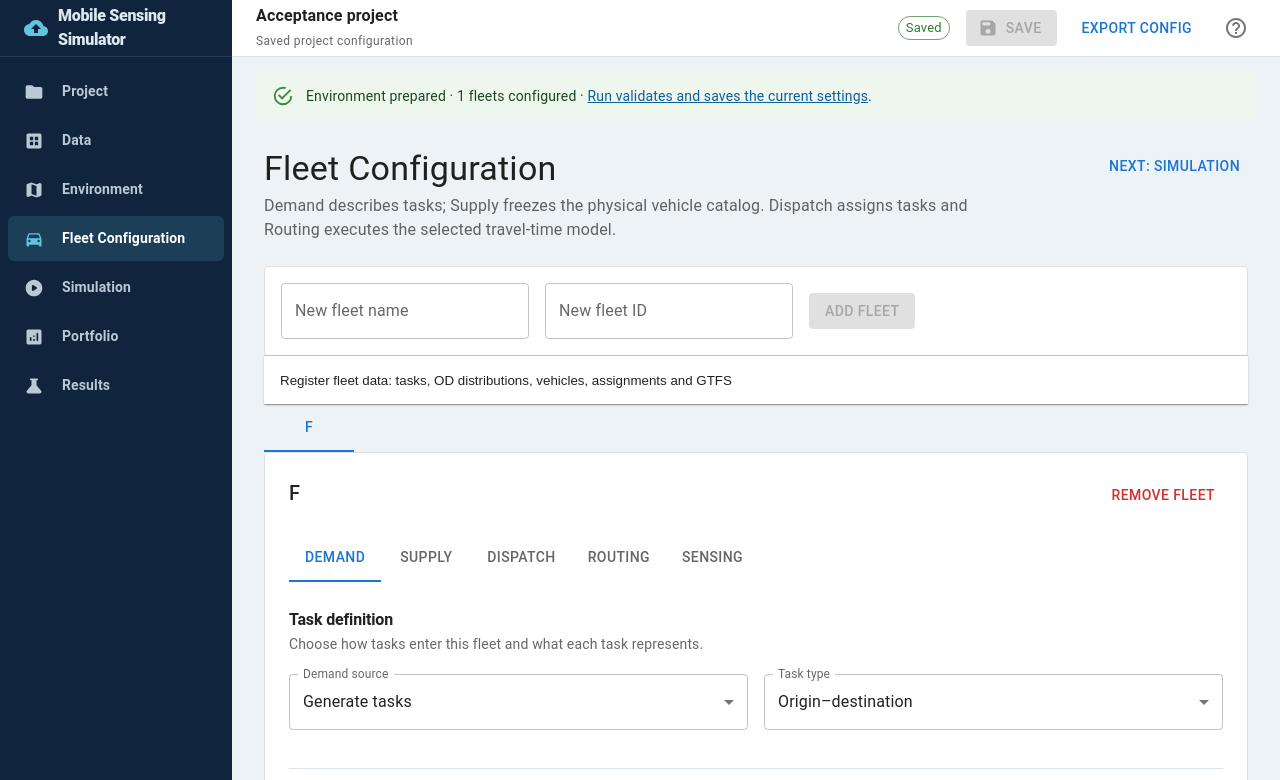
Scenario: MR05 public workbench › clears a stale OD reference when Demand source changes away from generated OD demand
The width and height of the screenshot is (1280, 780).
Click the dropdown named "Demand source" at [357, 702], box [303,692,412,711]
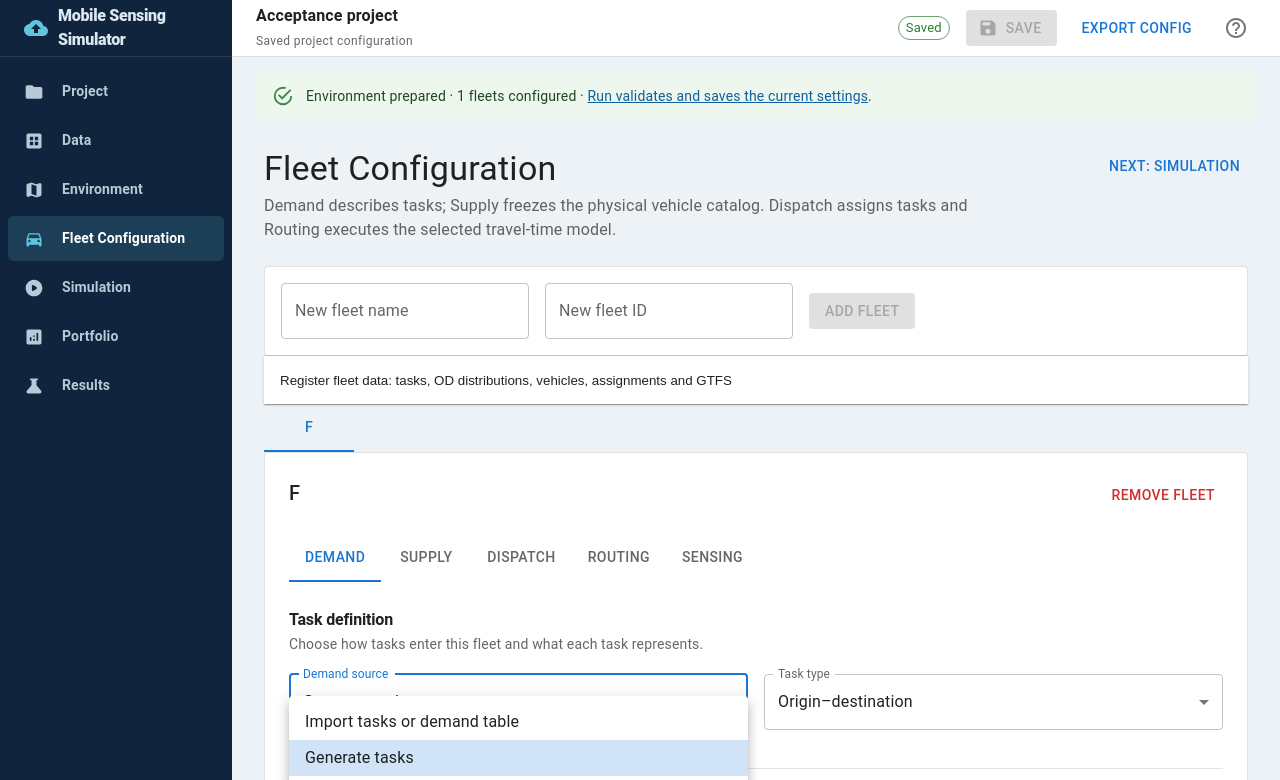
Click the option "Import tasks or demand table" at [412, 722], box [305,712,519,731]
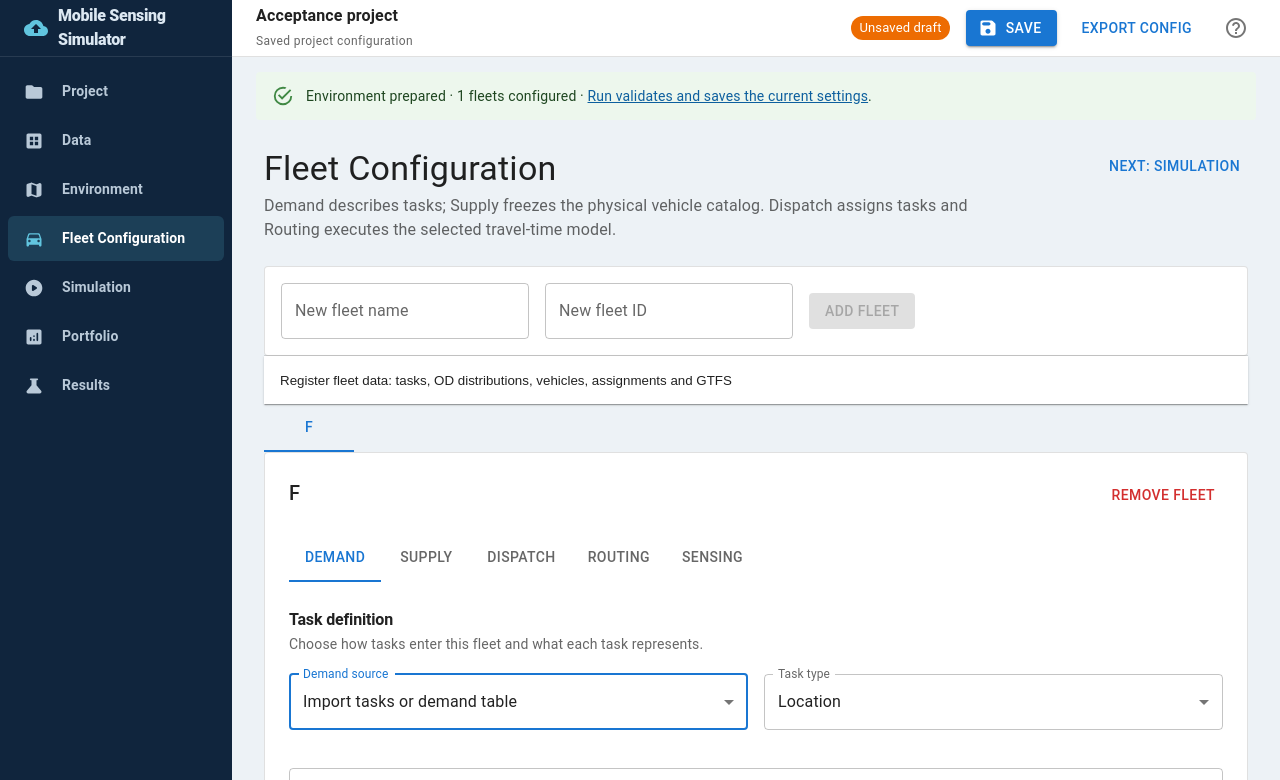
Click the dropdown named "Demand source" at [410, 702], box [303,692,517,711]
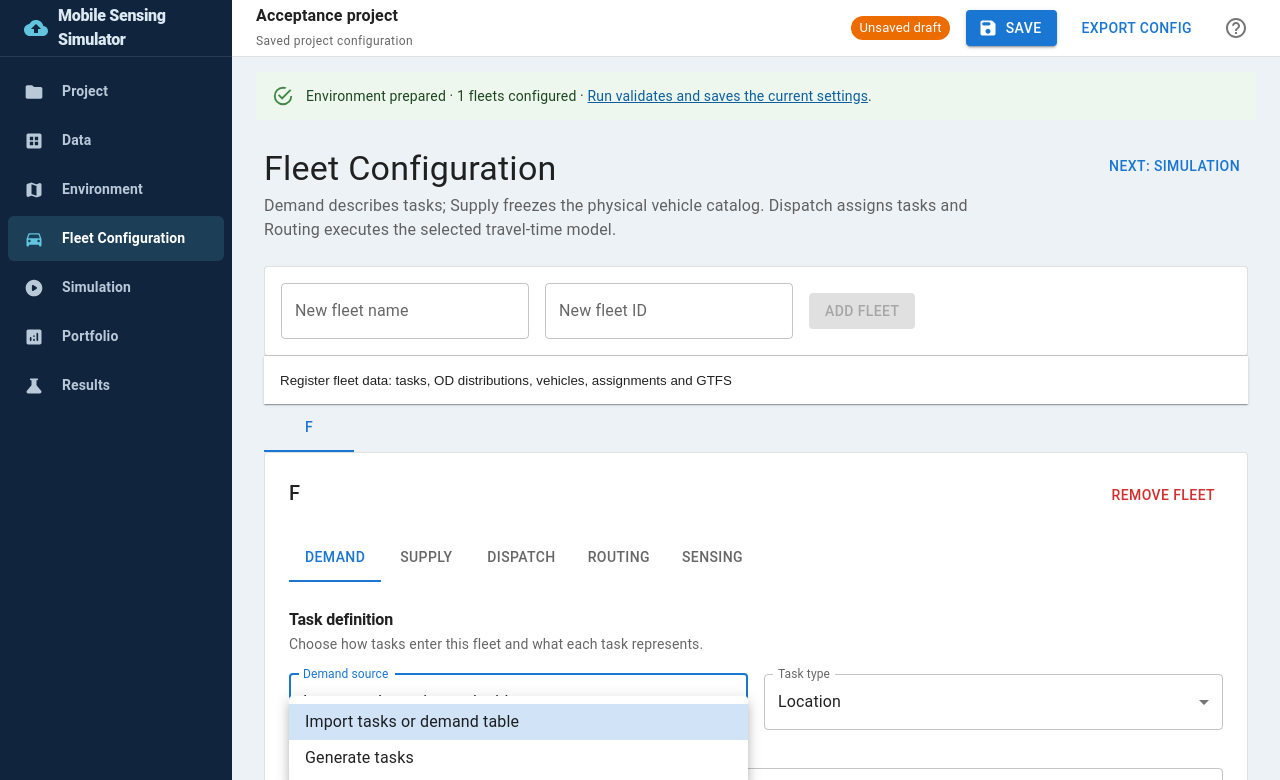
Click the option "Generate tasks" at [359, 758], box [305,748,414,767]
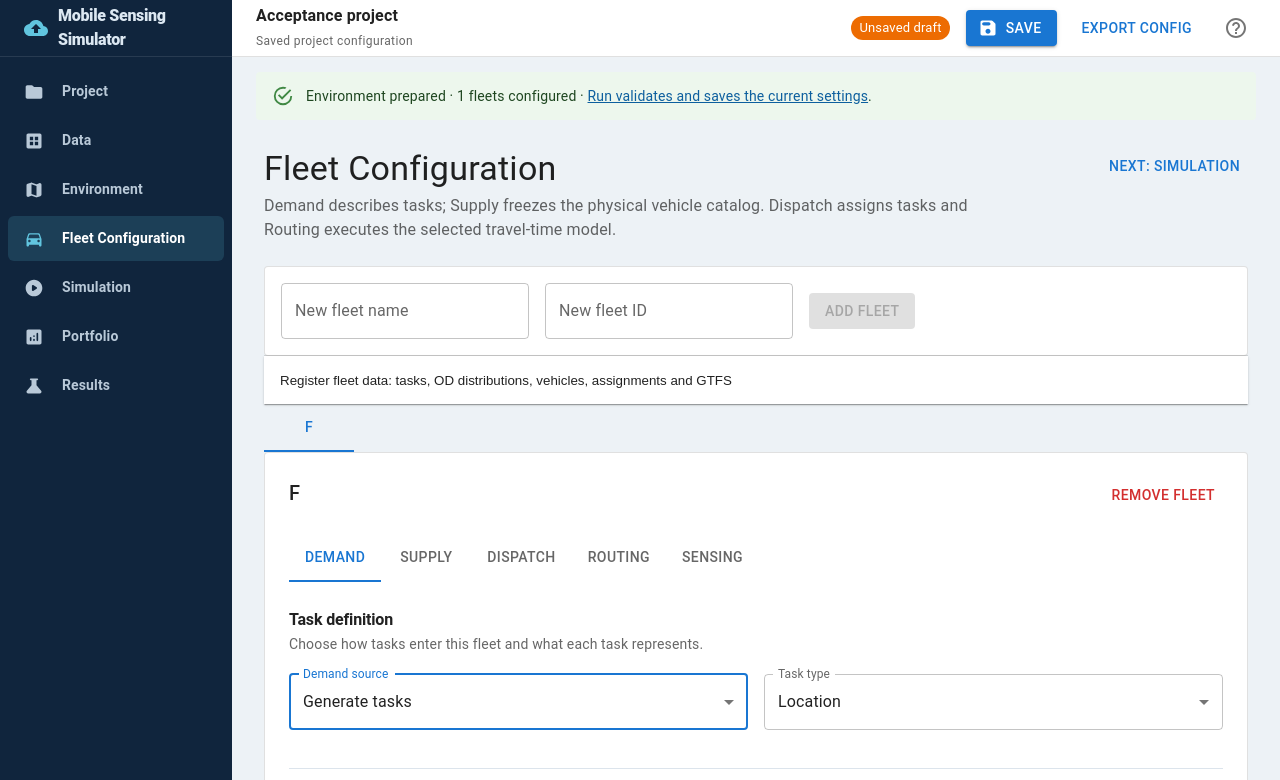
Click the dropdown named "Task type" at [810, 702], box [778,692,841,711]
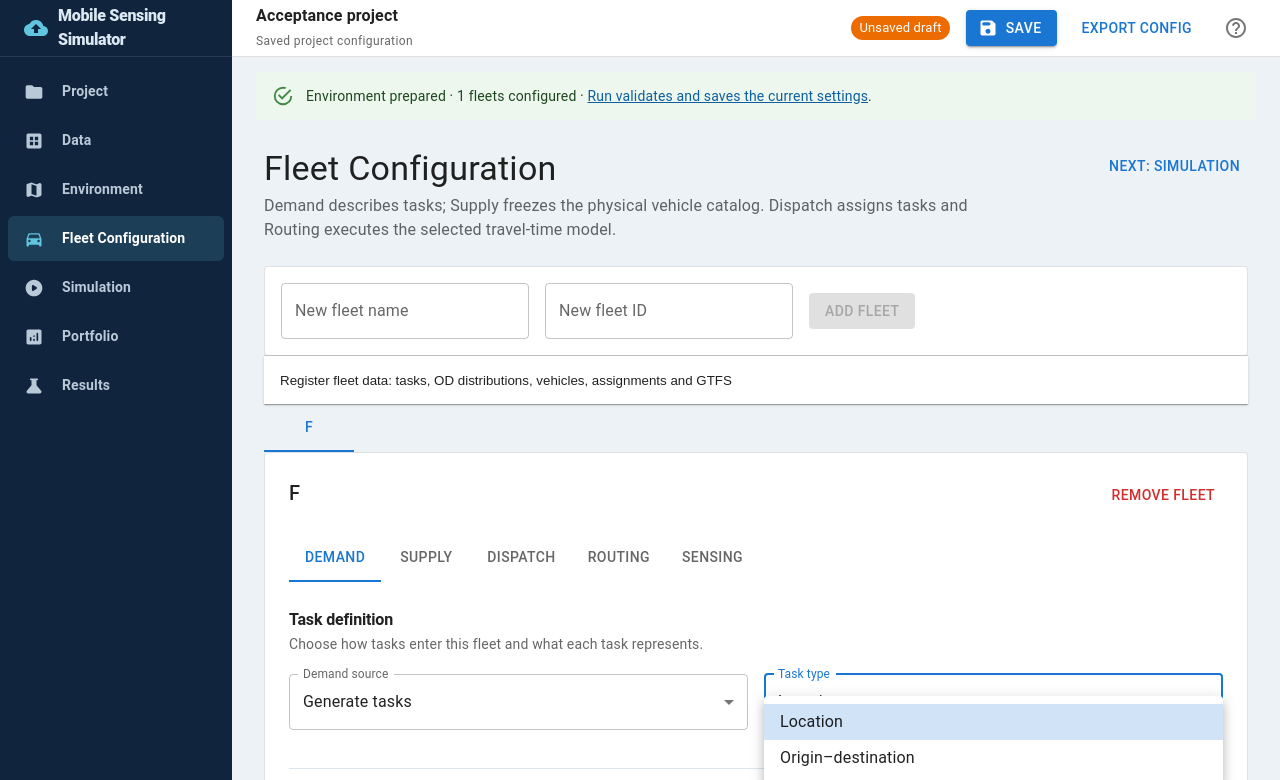
Click the option "Origin–destination" at [847, 758], box [780,748,915,767]
(page scrolled)
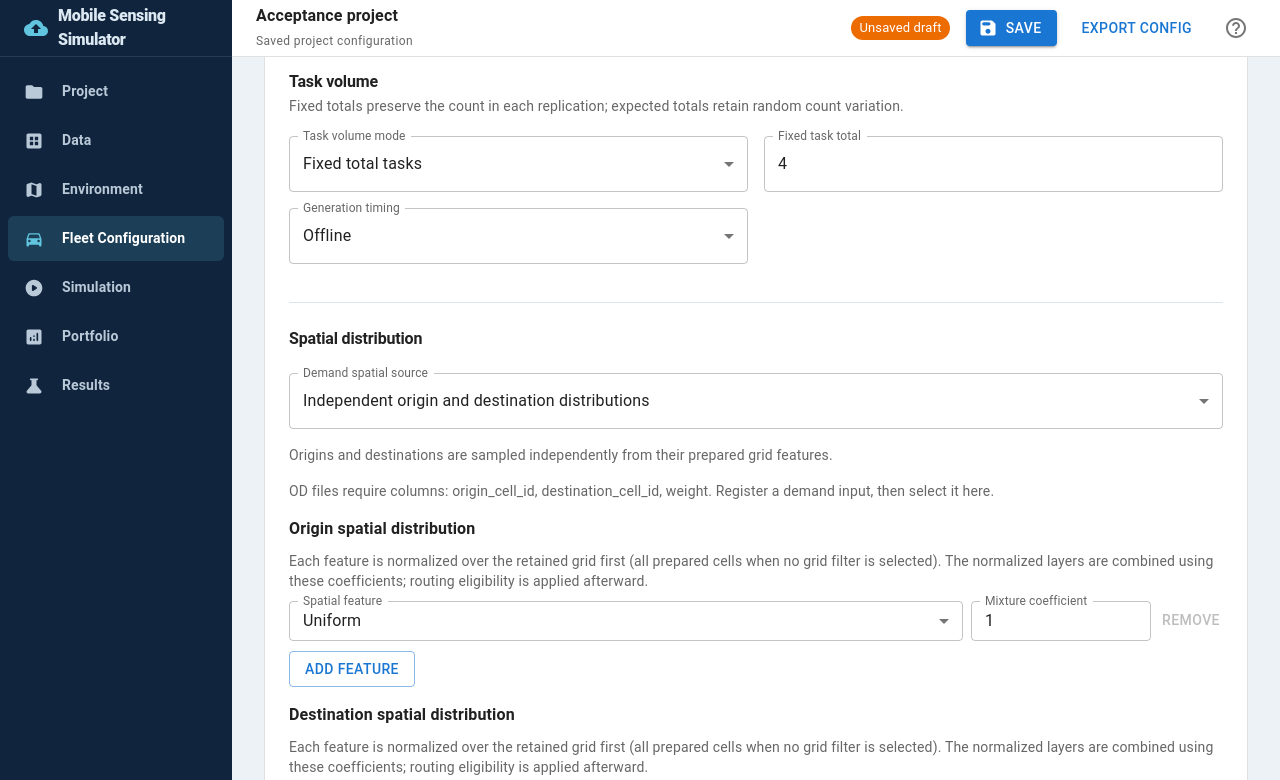
Now the dropdown named "Demand spatial source" reads "Independent origin and destination distributions", box [303,391,650,410]
